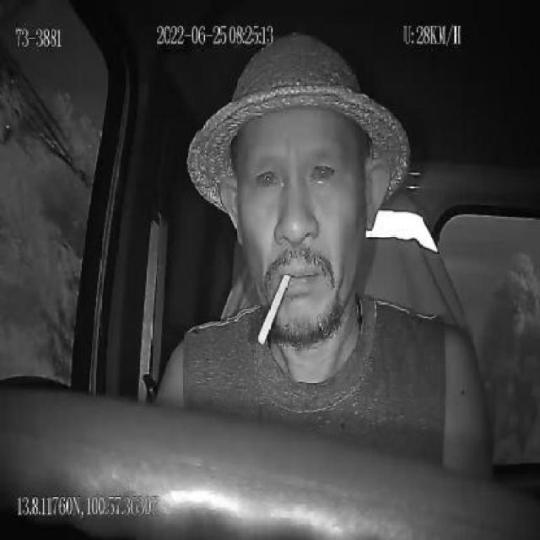smoking: (257, 271, 293, 348)
